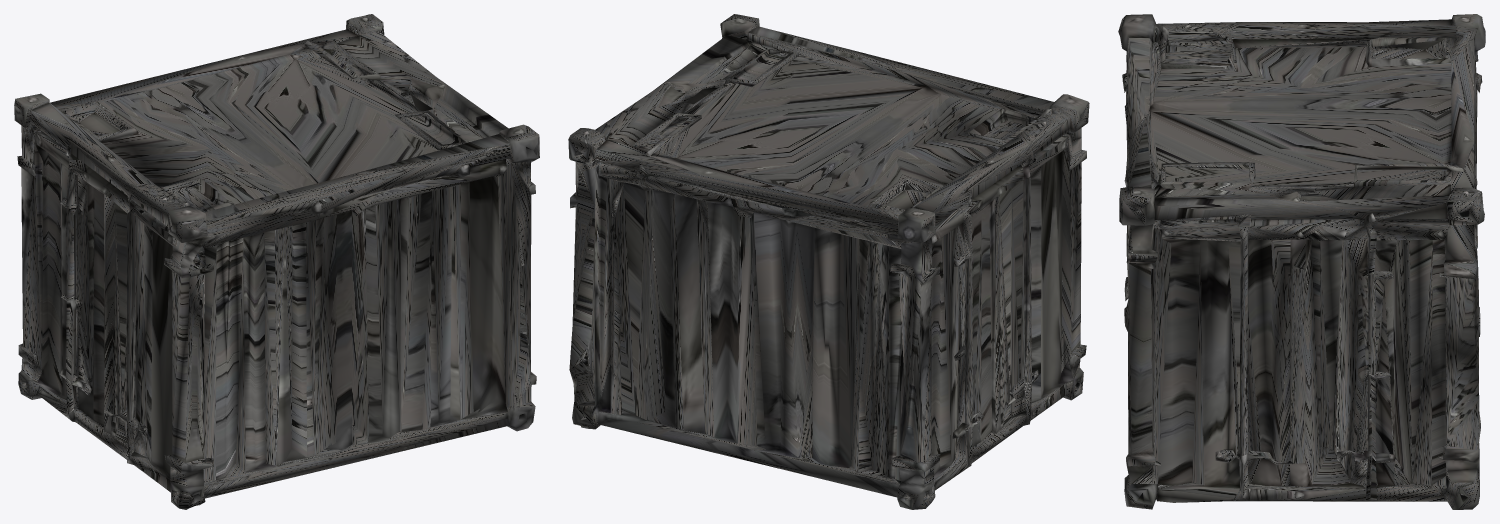
File: cargo_container.glb
The picture shows the model from 3 angles, left to right: view 1: azimuth 30°, elevation 25°; view 2: azimuth 150°, elevation 25°; view 3: azimuth 270°, elevation 25°; orthographic projection. The views are drawn at different scales.
Visible parts, largest first — view 1: tripo_node_c5f34385-ff04-4618-bbe0-45c1ccfb6aa4; view 2: tripo_node_c5f34385-ff04-4618-bbe0-45c1ccfb6aa4; view 3: tripo_node_c5f34385-ff04-4618-bbe0-45c1ccfb6aa4.
Boxes of the visible parts, x1,y1,x2,y2 form: tripo_node_c5f34385-ff04-4618-bbe0-45c1ccfb6aa4: (14, 14, 539, 509); tripo_node_c5f34385-ff04-4618-bbe0-45c1ccfb6aa4: (568, 14, 1089, 509); tripo_node_c5f34385-ff04-4618-bbe0-45c1ccfb6aa4: (1118, 14, 1485, 509).
Size of the model in its own units: 0.999 by 0.7893 by 0.829.
1 material, 1 textured.
